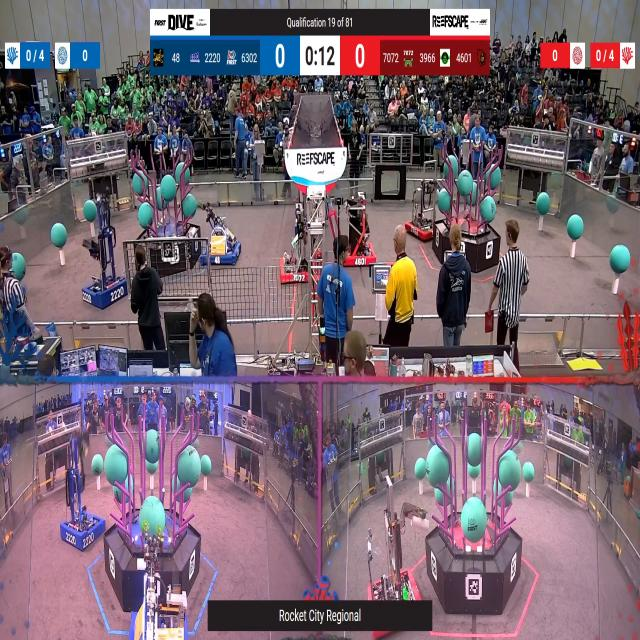scoreboard: (150, 36, 490, 75)
